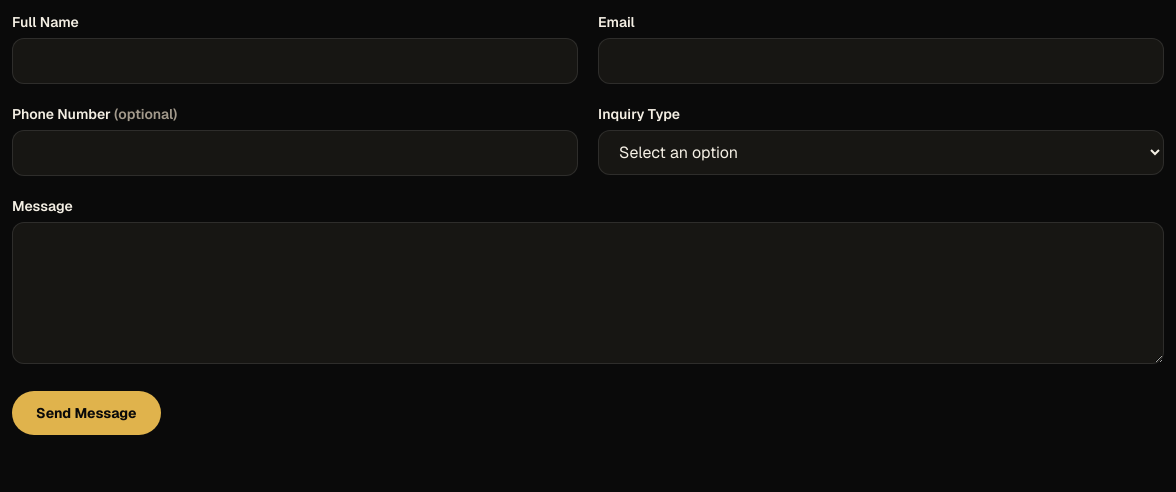
it: ContactForm › shows an error message when the server rejects the submission
Type "Jordan Smith" into the field labelled "Full Name".
click(295, 61); type("Jordan Smith")  # box top-left (12, 38), bottom-right (578, 84)
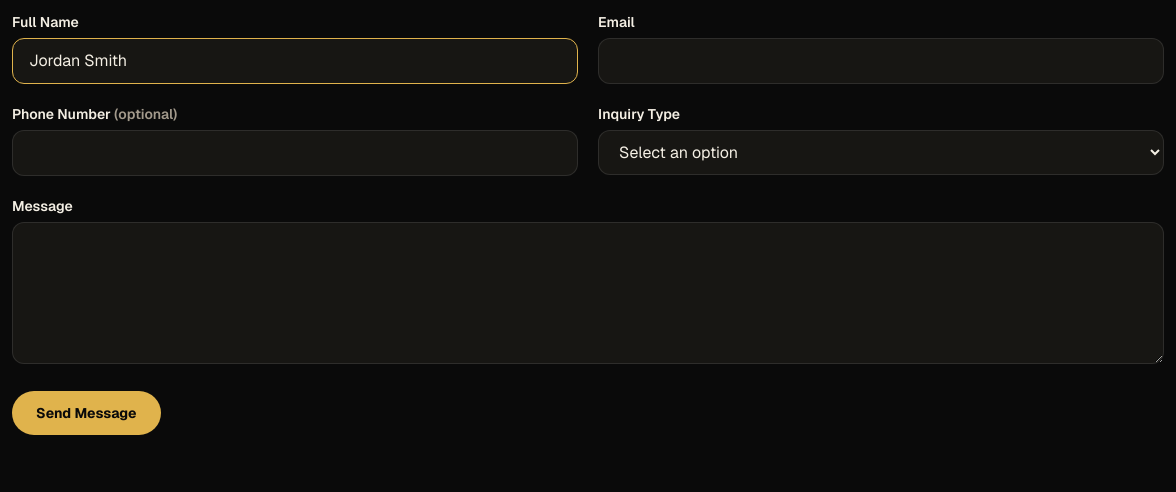
Type "jordan@example.com" into the field labelled "Email".
click(881, 61); type("jordan@example.com")  # box top-left (598, 38), bottom-right (1164, 84)
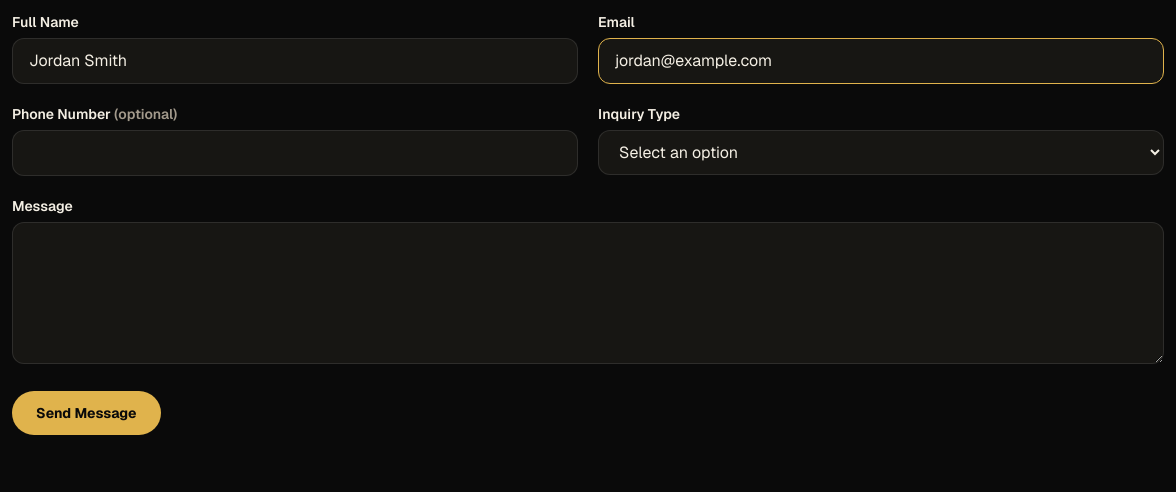
Select "General Query" in the dropdown labelled "Inquiry Type" at (881, 152), box top-left (598, 130), bottom-right (1164, 175)
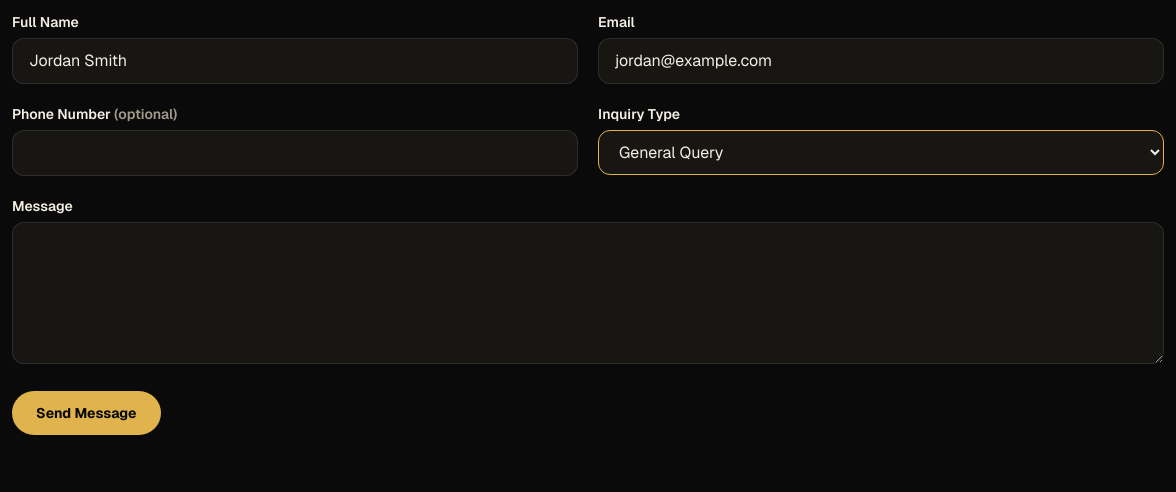
Type "I'd like to learn more about training sessions." into the text box labelled "Message".
click(588, 293); type("I'd like to learn more about training sessions.")  # box top-left (12, 222), bottom-right (1164, 364)
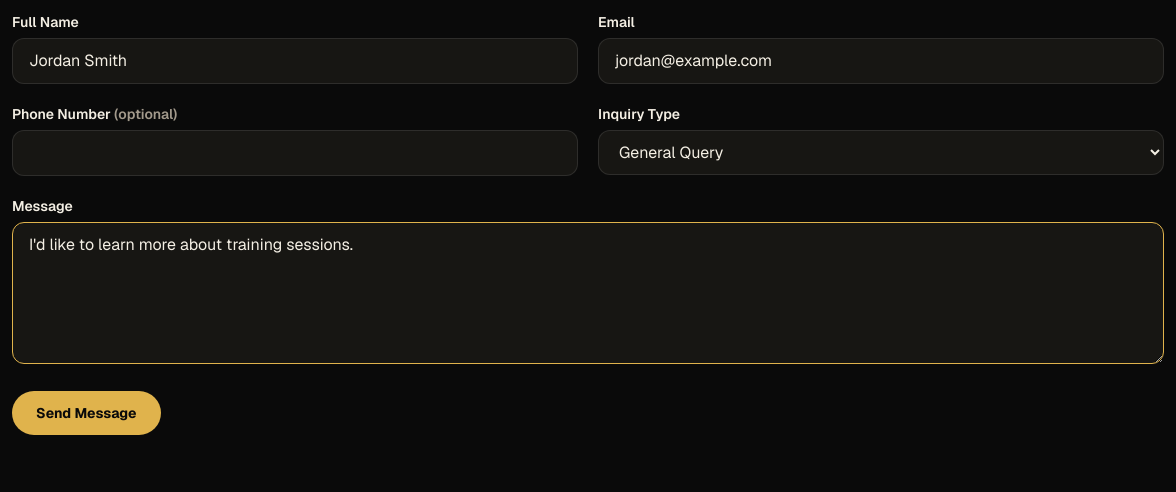
Click the button "Send Message".
click(86, 413)  # box top-left (12, 391), bottom-right (160, 435)
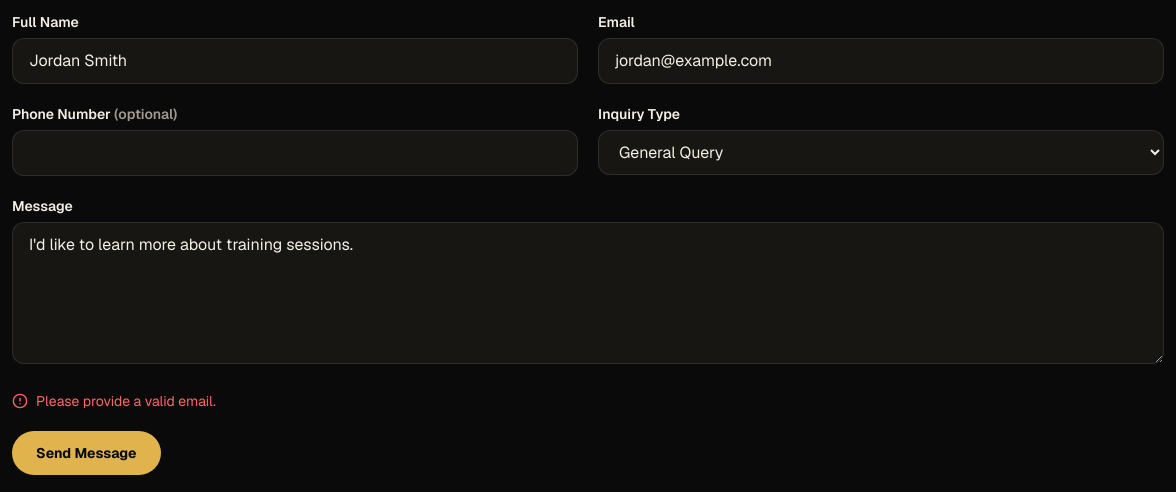
Expected: the text "Please provide a valid email." is shown, top-left (12, 392), bottom-right (216, 410)
